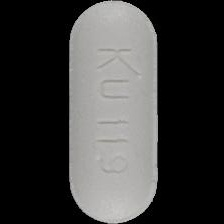21695-837: (0, 0, 224, 224)
